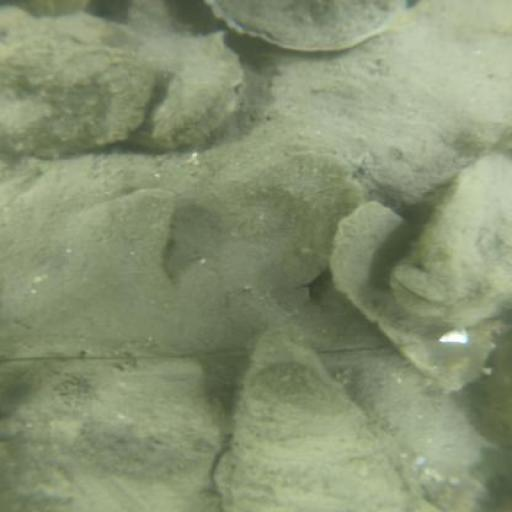Oyster-Closed: (1, 358, 230, 512), (2, 12, 155, 156), (397, 149, 509, 326), (351, 354, 482, 487), (153, 36, 244, 148), (210, 1, 397, 49)
Oyster-Open: (224, 344, 418, 507)
